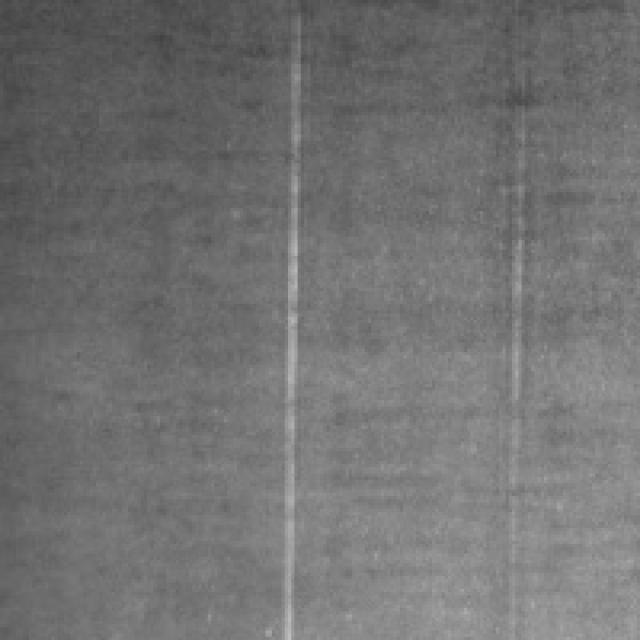scratches: (266, 9, 310, 634)
